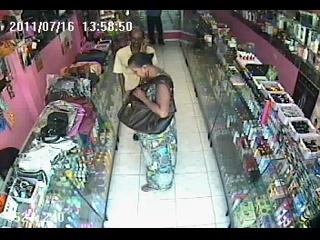Normal: (126, 52, 178, 192), (112, 28, 158, 99), (116, 92, 174, 135), (145, 10, 165, 46), (75, 50, 109, 66)
